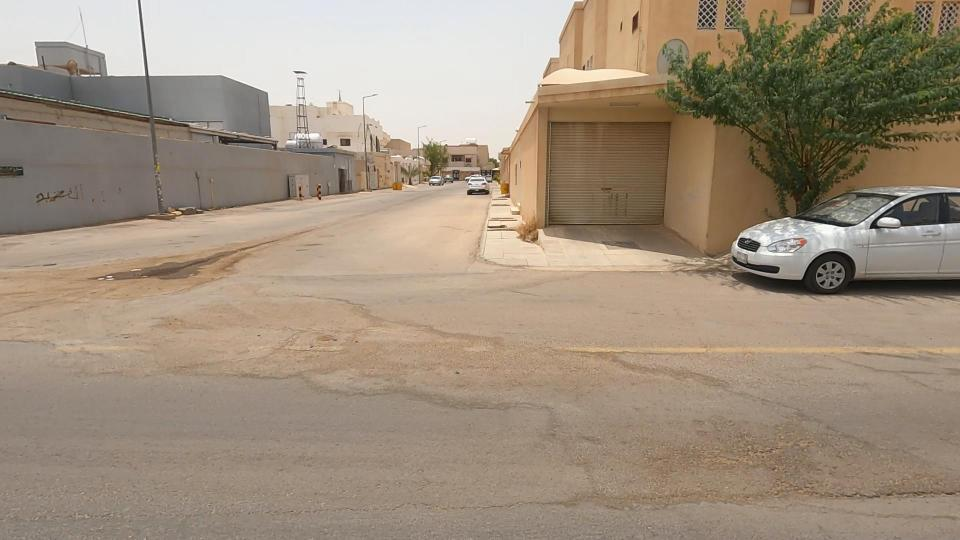GRAFFITI: (0, 168, 135, 234)
POTHOLES: (223, 260, 483, 430), (61, 220, 303, 330)
